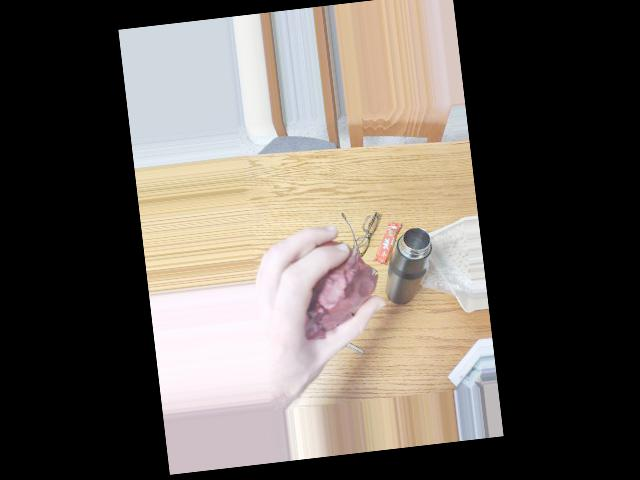onion: (293, 244, 375, 341)
